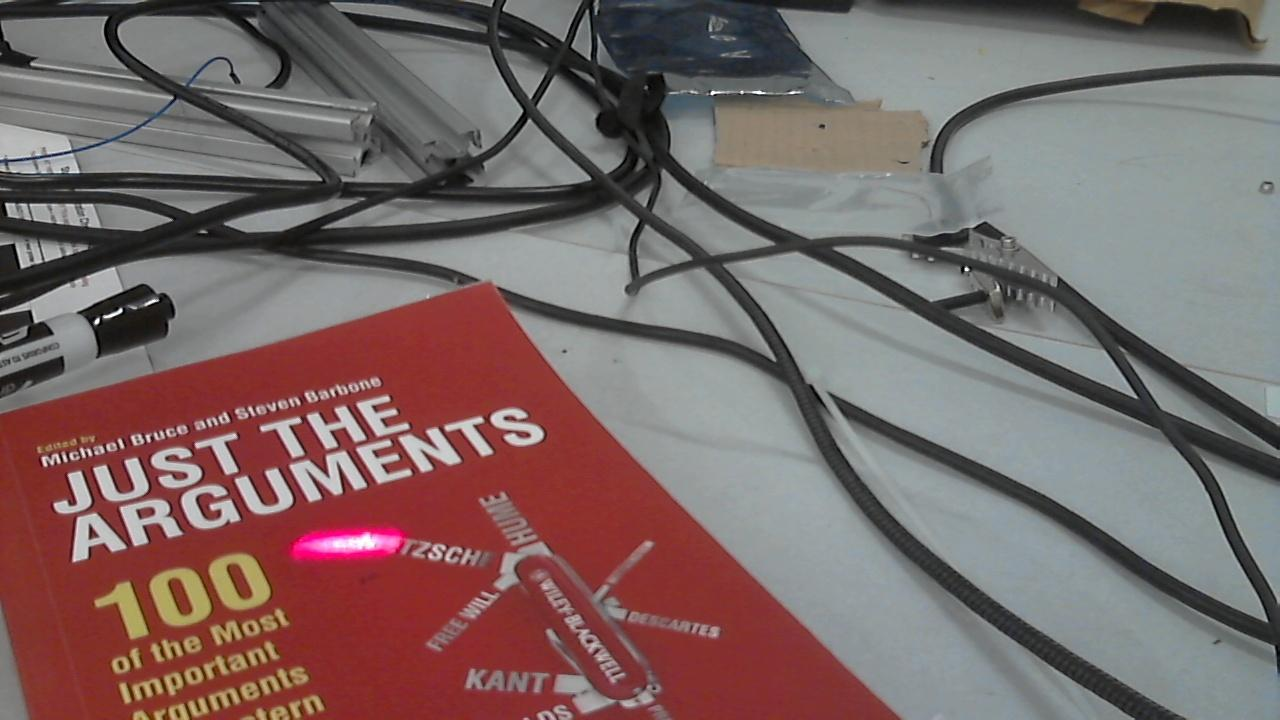Object book - Material paper - Color red - Pdfname QP9o9Hihi4G7: (265, 494, 439, 573)
